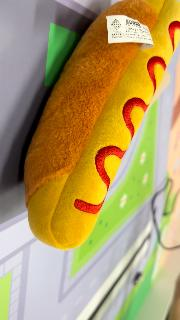hotdog: (23, 1, 179, 251)
